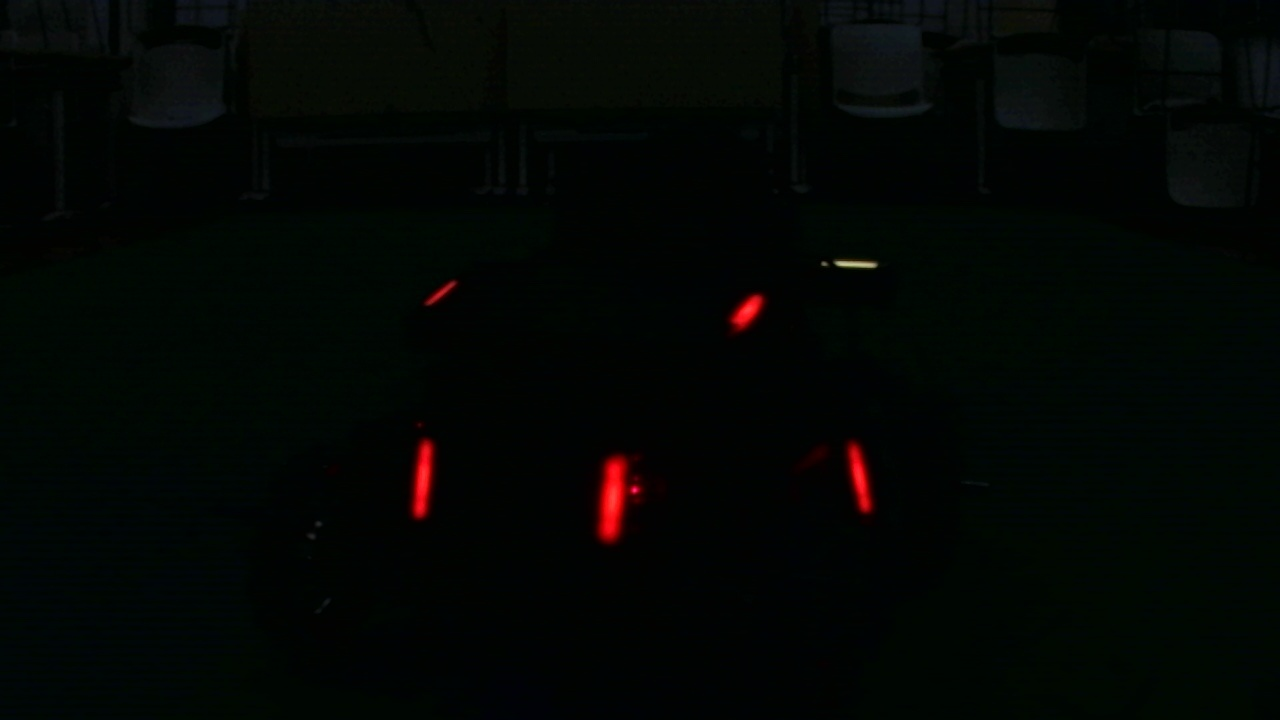lamp: (599, 454, 626, 544), (410, 444, 440, 520), (847, 436, 875, 512)
notpair1: (596, 439, 868, 542)
pair1: (405, 444, 627, 539)
